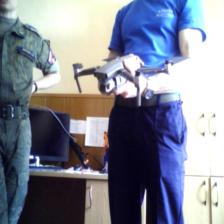drone: (63, 45, 180, 103)
